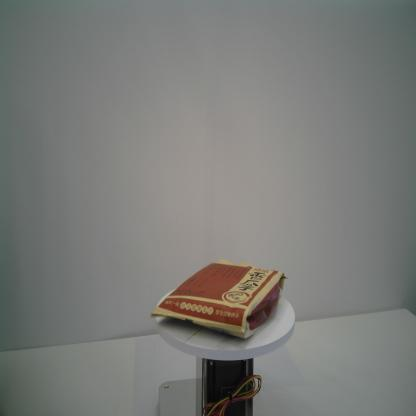Dried Food: (149, 255, 289, 342)
